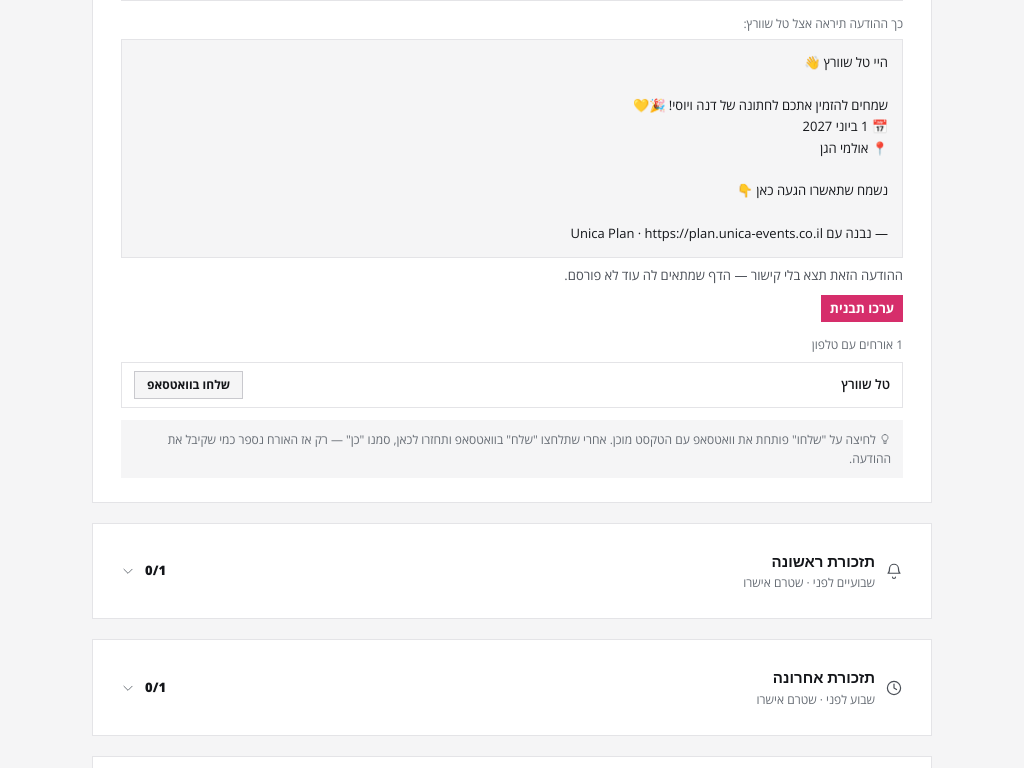
it: a message whose link is missing › asks before sending; cancelling opens nothing and marks nothing
The image size is (1024, 768).
(page scrolled)
Click the button "שלחו בוואטסאפ" at (189, 384), box [134,370,243,398]
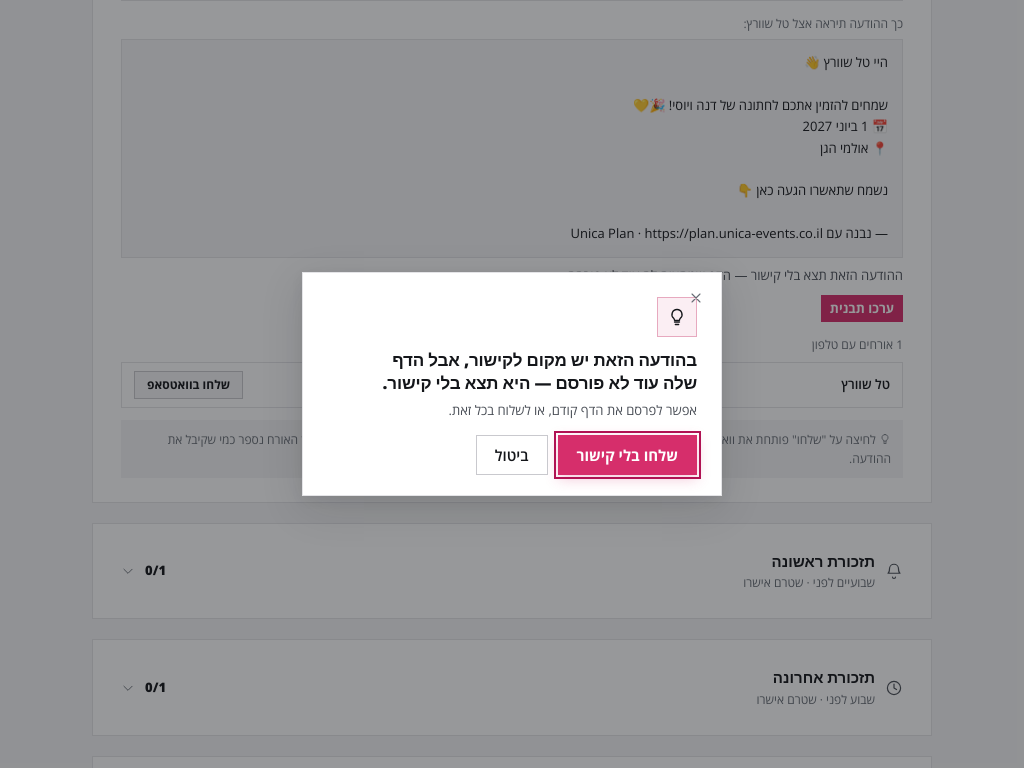
Now the heading "היא תצא בלי קישור" is shown, box [383,348,697,394]
Click the button "ביטול" at (512, 455), box [476,435,548,475]
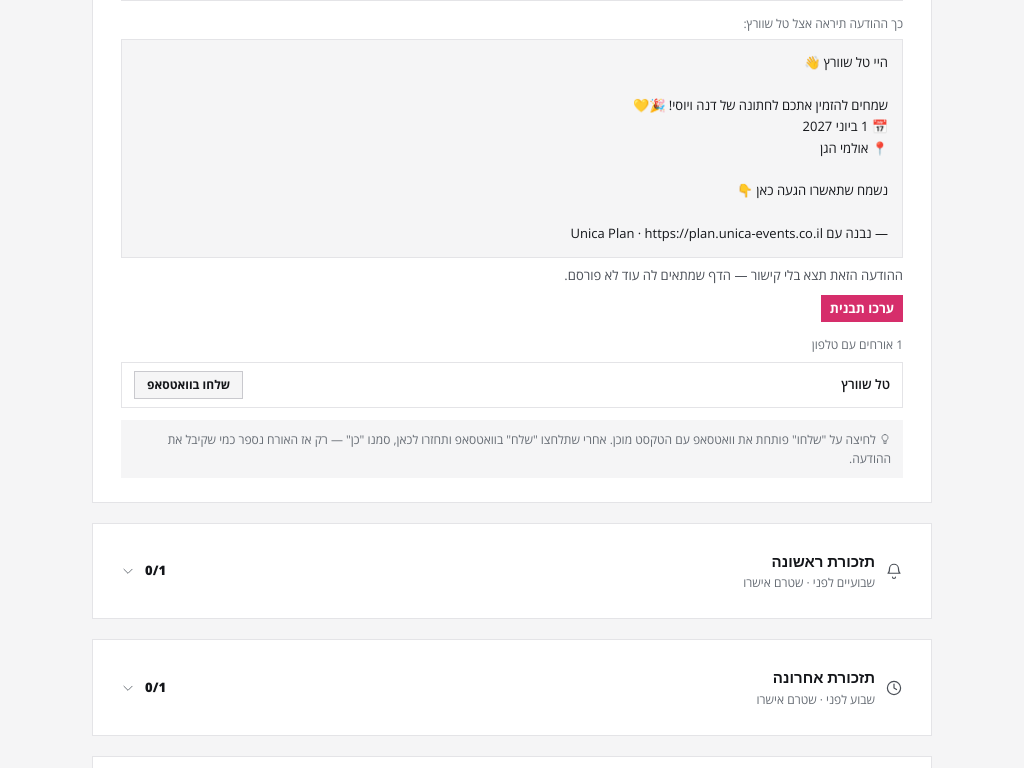
Now the heading "היא תצא בלי קישור" is gone
